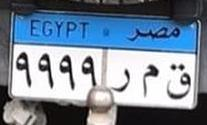9: (80, 56, 99, 86), (59, 55, 75, 90), (17, 52, 31, 89), (39, 53, 53, 89)
meem: (139, 61, 161, 99)
qaaf: (166, 62, 196, 99)
raa: (111, 64, 134, 94)
